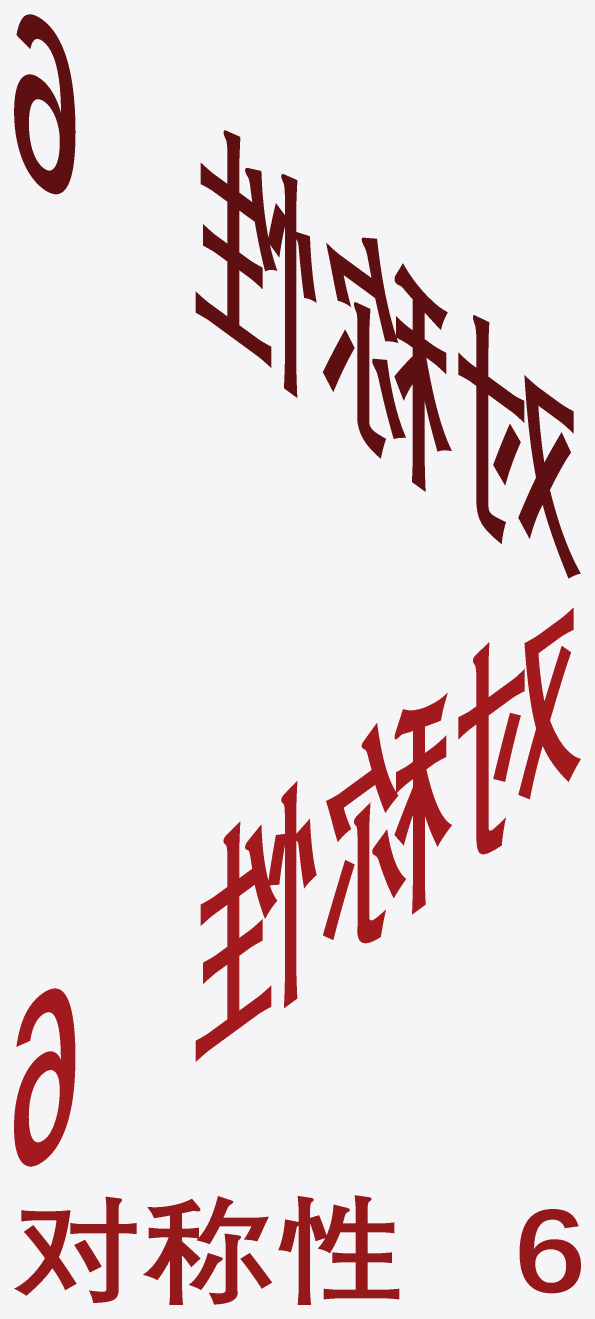
File: 对称性.fbx
3 views of the same model, one above another, from view 1: azimuth 30°, elevation 25°; view 2: azimuth 150°, elevation 25°; view 3: azimuth 270°, elevation 25° (orthographic). The views are drawn at different scales.
Visible parts, largest first — view 1: Text; view 2: Text; view 3: Text.
Part boxes in pixels (left/top/right/bottom): Text: left=14, top=14, right=580, bottom=578; Text: left=14, top=607, right=580, bottom=1166; Text: left=14, top=1195, right=580, bottom=1304.
Size of the model in its own units: 0.081 by 75.65 by 354.
